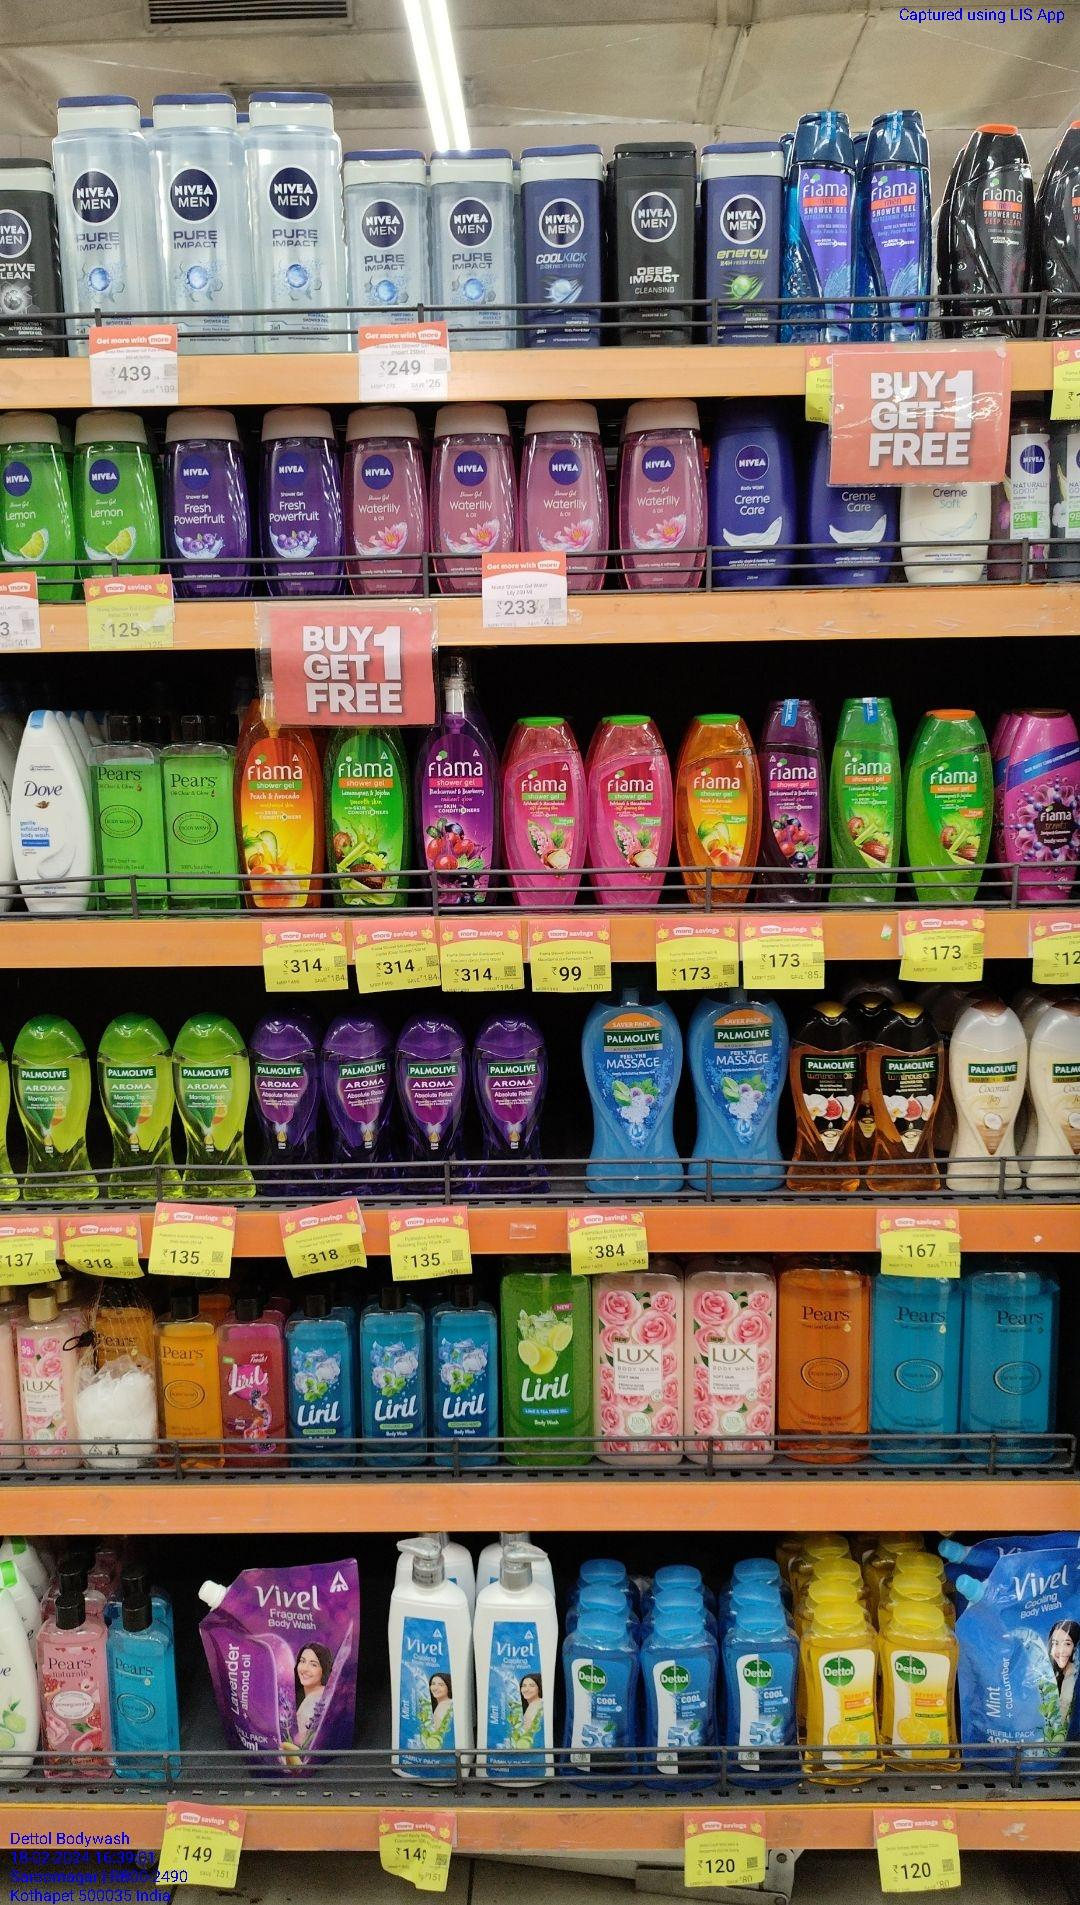Dettol_Bodywash_Cool: (727, 1603, 804, 1786), (645, 1605, 721, 1791), (562, 1613, 639, 1789)
Dettol_Bodywash_Refresh: (809, 1598, 885, 1787), (890, 1591, 958, 1777)
Dove_Gentle_Exfoliating_Body_Wash_250ML: (14, 709, 90, 911)
Fiama_Shower_Gel_Lemongrass_and_Jojoba_250ML: (905, 705, 992, 900)
Fiama_Shower_Gel_Patchouli_and_Macadamia_250ML: (499, 712, 585, 908), (594, 708, 672, 909)
Fiama_Shower_Gel_Peach_and_Avocado_250ML: (678, 712, 762, 909)
Liril_Cooling_Mint_Body_Wash_250ML: (357, 1291, 429, 1469), (435, 1291, 497, 1468), (291, 1303, 350, 1475)
Nivea_Shower_Gel_Fresh_Powerfruit_250ML: (168, 408, 250, 595), (262, 408, 338, 590)
Nivea_Shower_Gel_Lemon_and_Oil_250ML: (0, 411, 77, 604), (85, 406, 158, 586)
Nivea_Shower_Gel_Waterlily_and_Oil_250ML: (618, 399, 704, 586), (432, 402, 512, 589), (526, 402, 606, 587), (347, 407, 420, 603)
Palmolive_Aroma_Morning_Tonic_Shower_Gel_250ML: (16, 1015, 101, 1209), (178, 1007, 254, 1198), (106, 1014, 173, 1196)
Palmolive_Aroma_Relax_250ML: (474, 1014, 552, 1201), (325, 1021, 394, 1193), (401, 1015, 467, 1193), (261, 1007, 319, 1206)
Palmolive_Coconut_Joy_Exfoliating_Body_Wash_250ML: (954, 1000, 1022, 1192), (1034, 1004, 1080, 1196)
Palmolive_Luminous_Oils_With_White_Orchid_Shower_Gel_250ML: (865, 1004, 940, 1197), (795, 1004, 859, 1197)
Pears_Pure_Glycerin_and_Lemon_Flower_Extracts_Body_Wash_250ML: (160, 703, 236, 917), (93, 714, 154, 909)
Pears_Pure_Glycerin_and_Mint_Extracts_Body_Wash_250ML: (107, 1594, 179, 1781)
